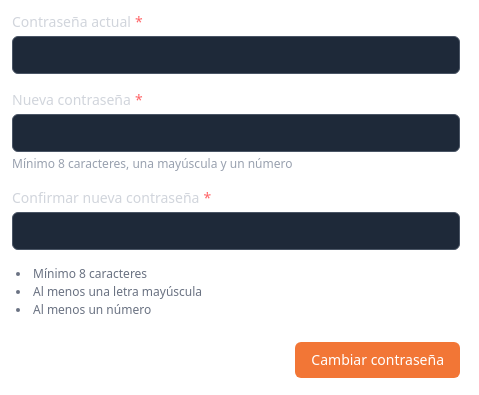
Scenario: PasswordChangeForm › shows error when new password is too short
In the password field named "currentPassword": (236, 55) [12,36,460,74], type "OldPassword1"
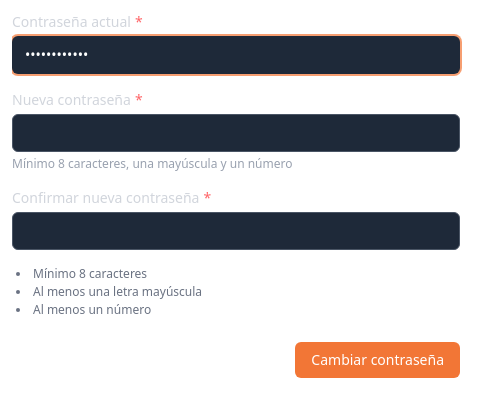
In the password field named "newPassword": (236, 133) [12,114,460,152], type "Short1"
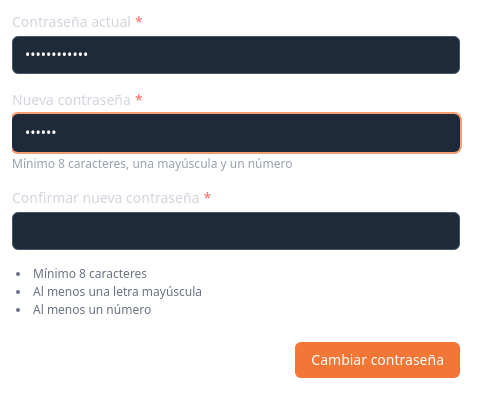
In the password field named "confirmPassword": (236, 231) [12,212,460,250], type "Short1"
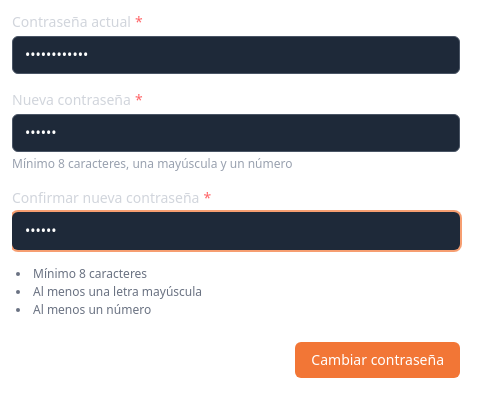
Click the button "Cambiar contraseña": (378, 360) [295,342,460,378]
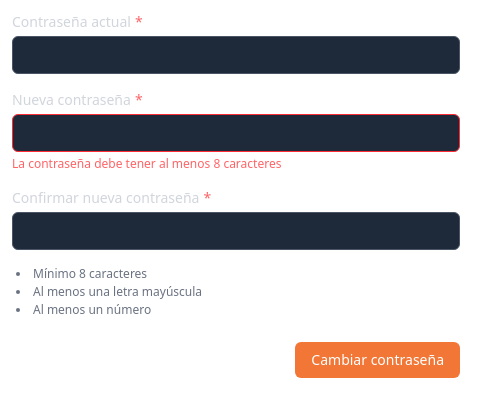
Now the text "La contraseña debe tener al menos 8 caracteres" is shown, box [12,155,281,172]
